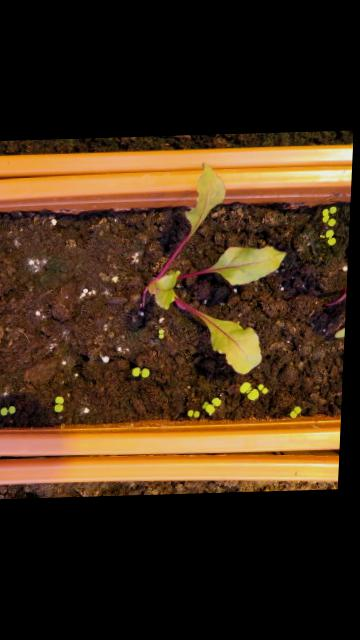weed: (0, 405, 26, 419), (53, 395, 70, 416), (323, 231, 342, 249), (131, 367, 155, 381), (290, 408, 308, 422), (188, 411, 204, 421), (158, 328, 169, 342)
